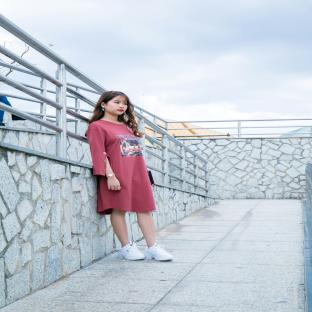Human: (85, 91, 173, 261)
